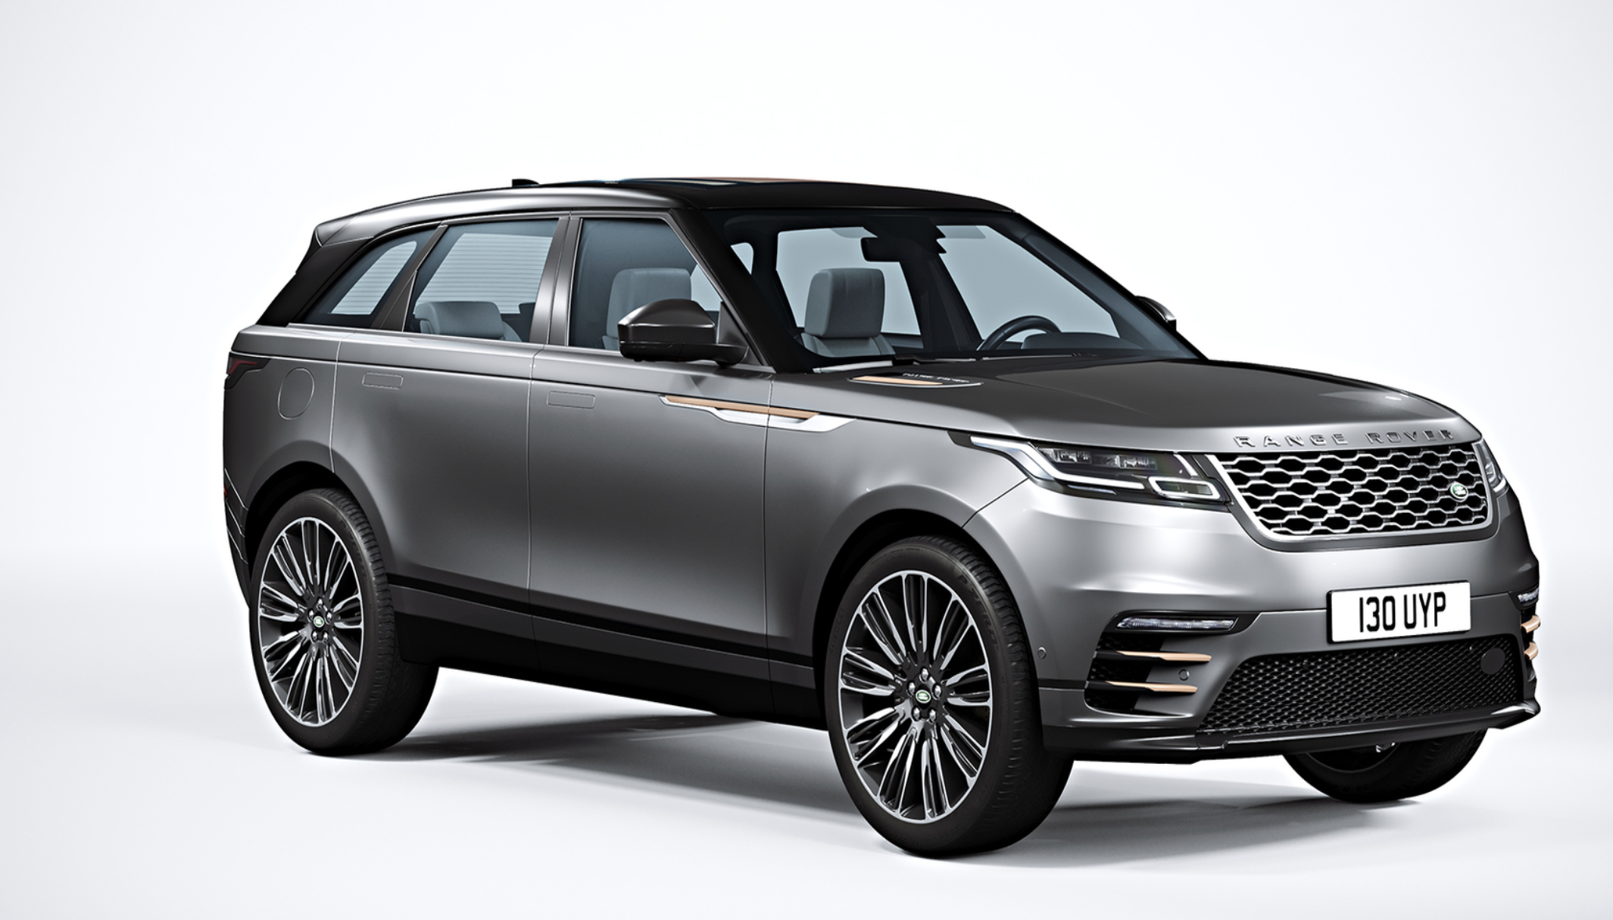hatch: (275, 362, 317, 425)
